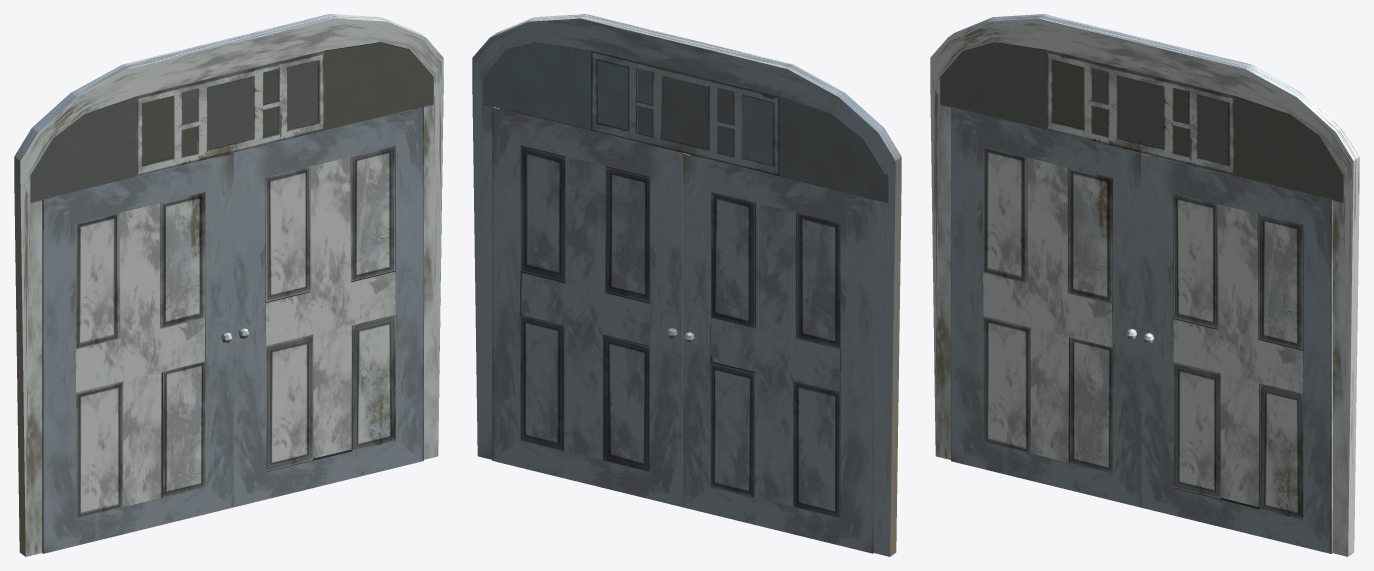
The model's file is porta_dupla 2.fbx.
3 renders of one model, left to right at view 1: azimuth 30°, elevation 25°; view 2: azimuth 150°, elevation 25°; view 3: azimuth 330°, elevation 25°, orthographic.
Parts seen in each view (by area): view 1: parte de dentro porta esquerda, parte de dentro porta direita, Camada total, Camada em volta E, Camada em volta D, vidro central, vidro superior D, vidro superior E, porta vidro; view 2: parte de dentro porta esquerda, parte de dentro porta direita, Camada total, Camada em volta E, Camada em volta D, vidro central, vidro superior D, vidro superior E, porta vidro; view 3: parte de dentro porta direita, parte de dentro porta esquerda, Camada em volta D, Camada total, Camada em volta E, vidro central, vidro superior D, vidro superior E, porta vidro.
Part boxes in pixels (x1,y1,x2,y2): parte de dentro porta esquerda: [75, 192, 205, 518]; parte de dentro porta direita: [265, 145, 395, 471]; Camada total: [14, 14, 443, 556]; Camada em volta E: [42, 153, 233, 553]; Camada em volta D: [233, 106, 423, 507]; vidro central: [143, 60, 318, 165]; vidro superior D: [324, 42, 433, 130]; vidro superior E: [30, 96, 136, 202]; porta vidro: [136, 50, 324, 176]; parte de dentro porta esquerda: [710, 192, 840, 518]; parte de dentro porta direita: [520, 145, 650, 471]; Camada total: [472, 14, 901, 556]; Camada em volta E: [682, 153, 873, 553]; Camada em volta D: [492, 106, 682, 507]; vidro central: [597, 60, 772, 165]; vidro superior D: [482, 42, 590, 130]; vidro superior E: [779, 96, 888, 202]; porta vidro: [591, 50, 783, 176]; parte de dentro porta direita: [1173, 193, 1303, 519]; parte de dentro porta esquerda: [983, 147, 1113, 473]; Camada em volta D: [1141, 153, 1332, 553]; Camada total: [930, 14, 1359, 556]; Camada em volta E: [951, 107, 1142, 507]; vidro central: [1053, 60, 1228, 164]; vidro superior D: [1234, 96, 1343, 202]; vidro superior E: [940, 42, 1046, 129]; porta vidro: [1046, 50, 1234, 175].
Bounding box in the file's own units: 275 × 288 × 18.33.
11 materials, 11 textured.
